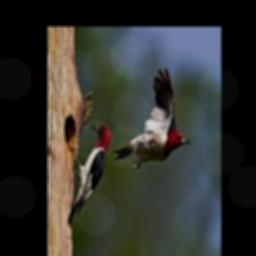Woodpecker: (113, 67, 190, 168), (67, 123, 111, 226)
